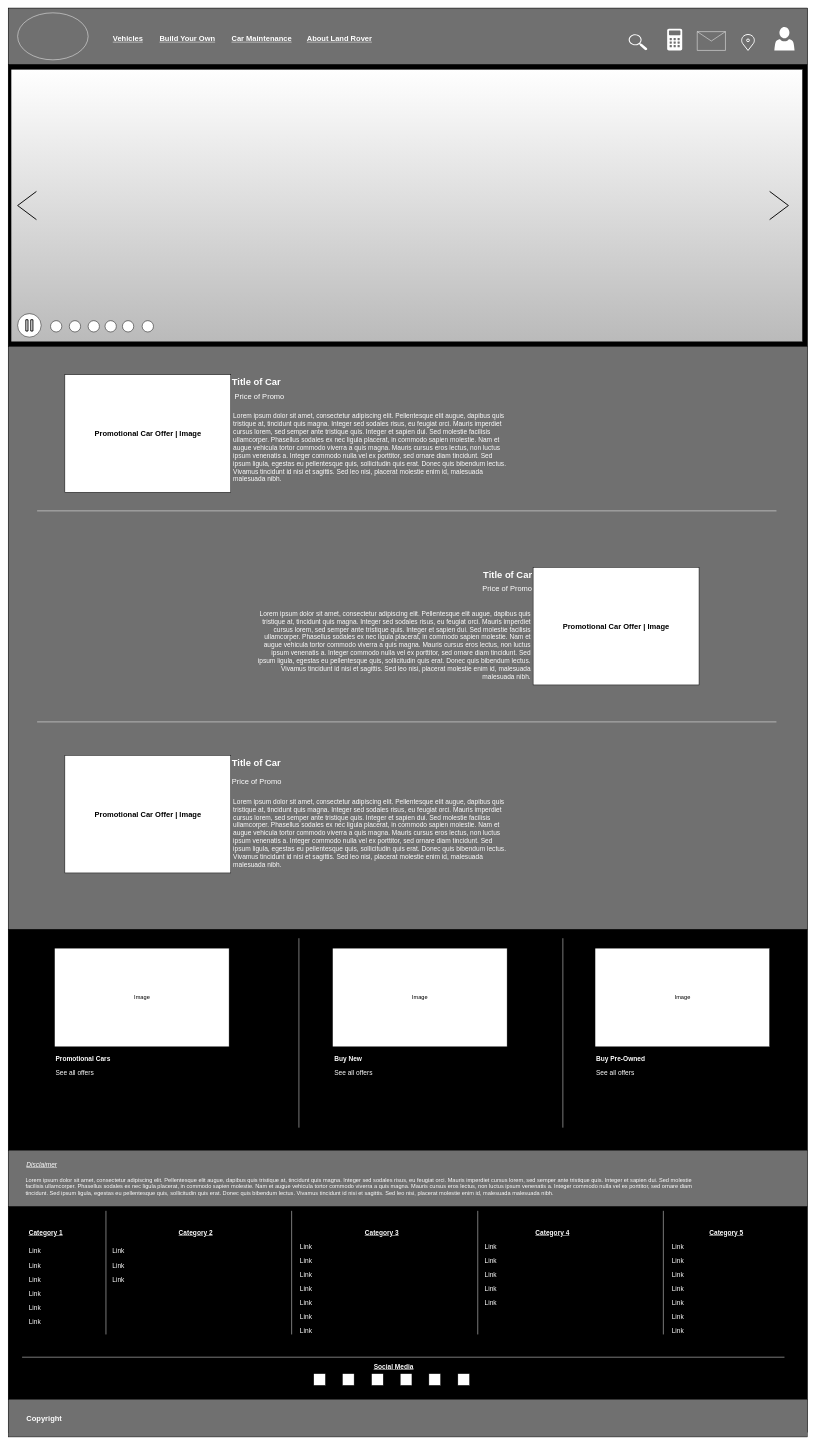
Some shapes in this 815 by 1445 pixel diagram are drawn without their labels. Each missing label, with the box of its shape:
Image Carousel: (11, 69, 803, 342)
Logo: (17, 12, 88, 60)
